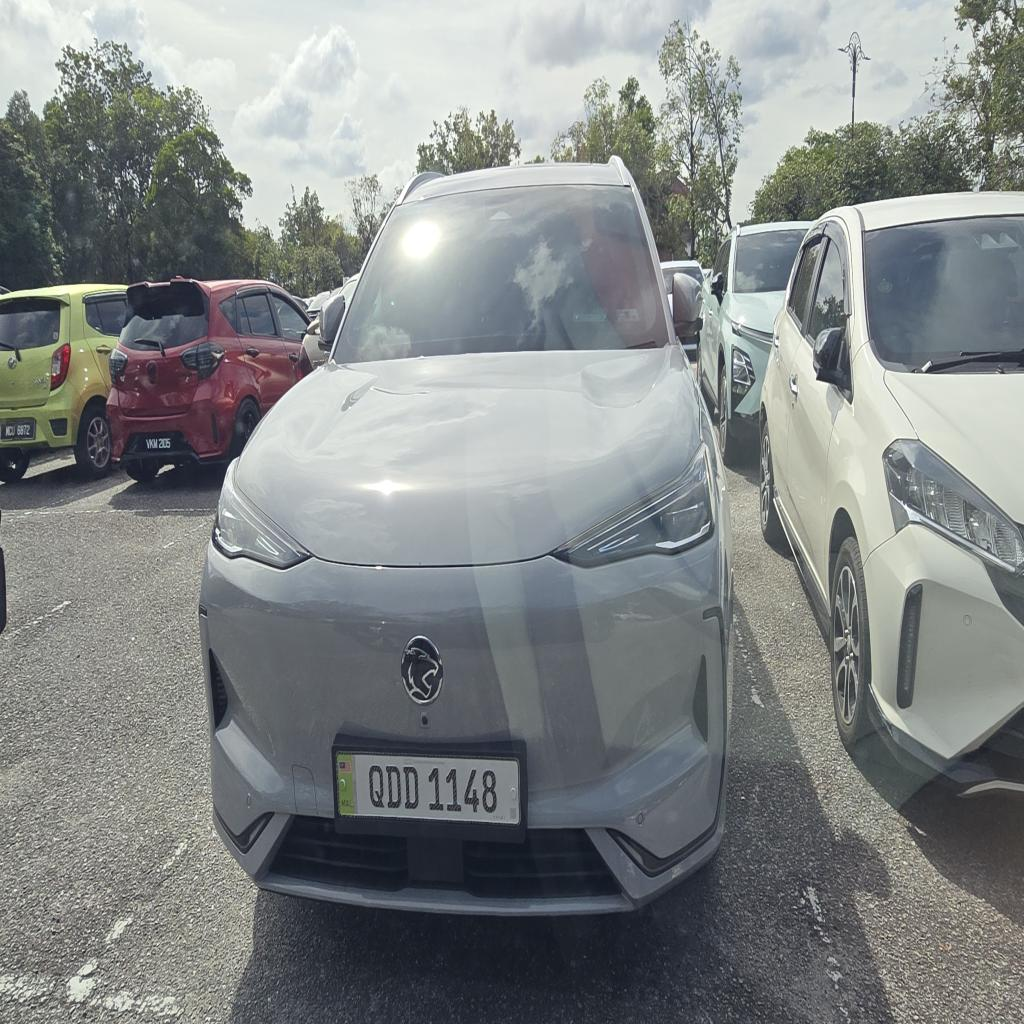car: (200, 158, 732, 913)
car plate: (334, 748, 522, 828)
